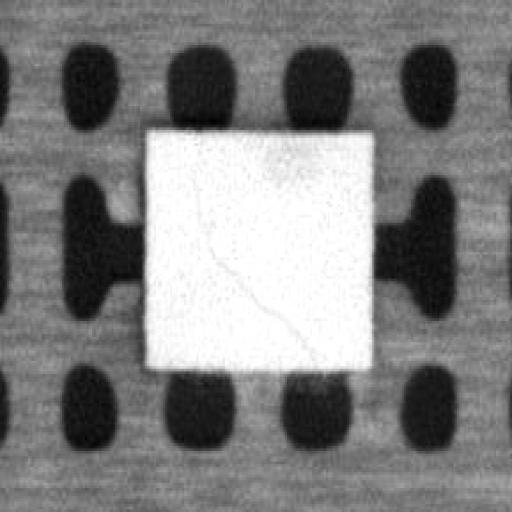DIE_CRACK: (190, 194, 317, 358)
